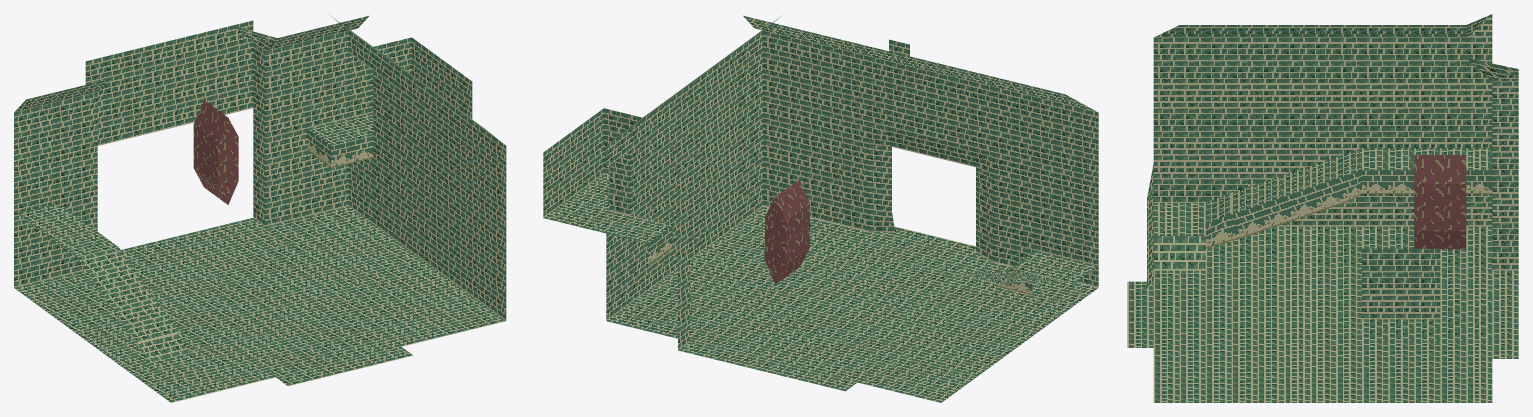
File: BigRoom.gltf
3 views of the same model, side by side, from view 1: azimuth 30°, elevation 25°; view 2: azimuth 150°, elevation 25°; view 3: azimuth 270°, elevation 25° (orthographic). The views are drawn at different scales.
Bounding box in the file's own units: 19 × 9 × 15.
Materials: 2 (2 with a texture image).
